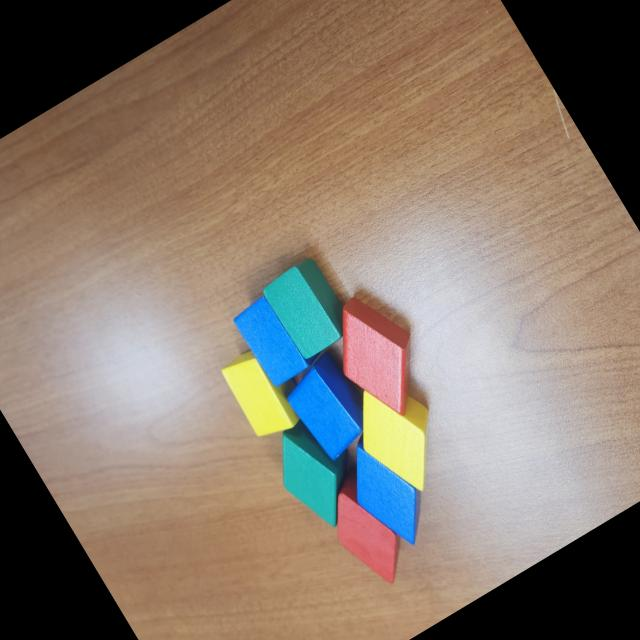blue: (326, 421, 444, 559), (276, 342, 390, 467), (230, 294, 312, 392)
green: (260, 406, 380, 540), (256, 252, 363, 366)
red: (311, 280, 446, 432), (312, 466, 421, 596)
yellow: (336, 364, 462, 506), (219, 347, 303, 446)
